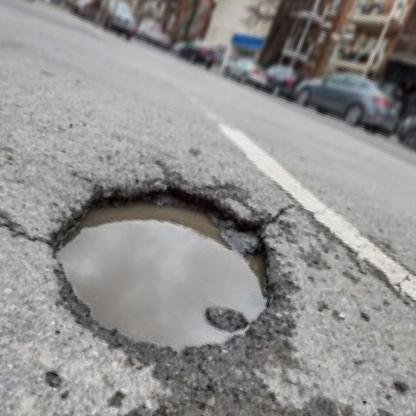pothole: (28, 147, 303, 383)
